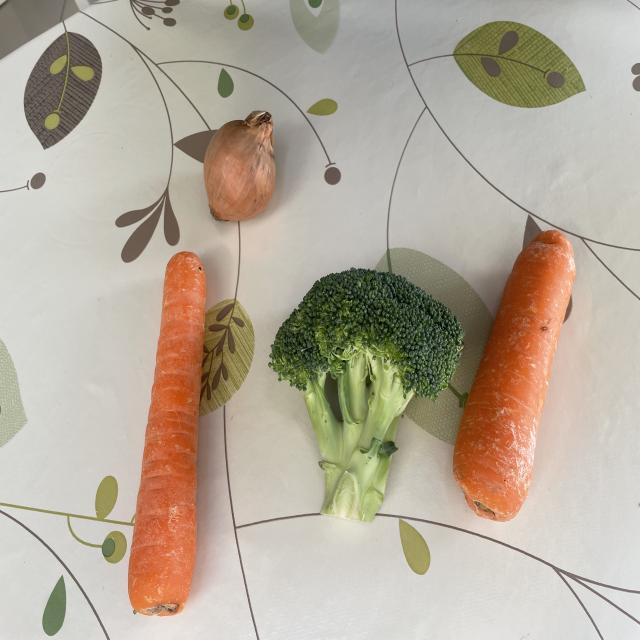Broccoli: (269, 266, 466, 524)
Carrot: (452, 228, 576, 524), (128, 249, 209, 618)
Onion: (204, 109, 278, 223)
